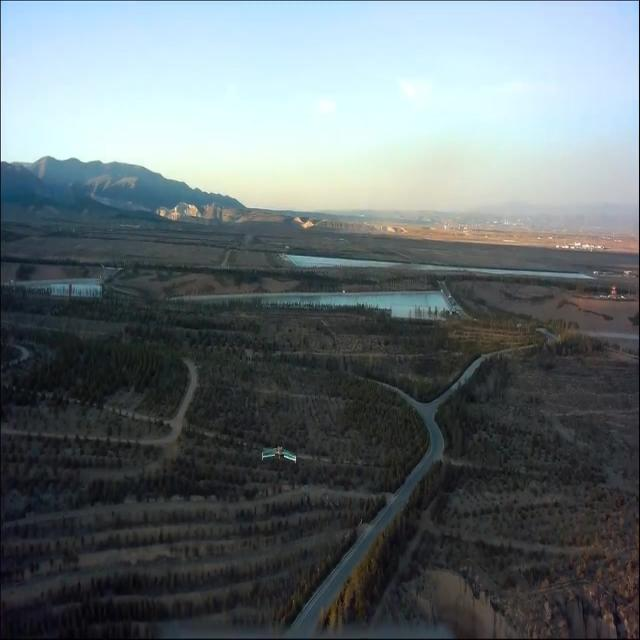iha: (262, 439, 296, 458)
